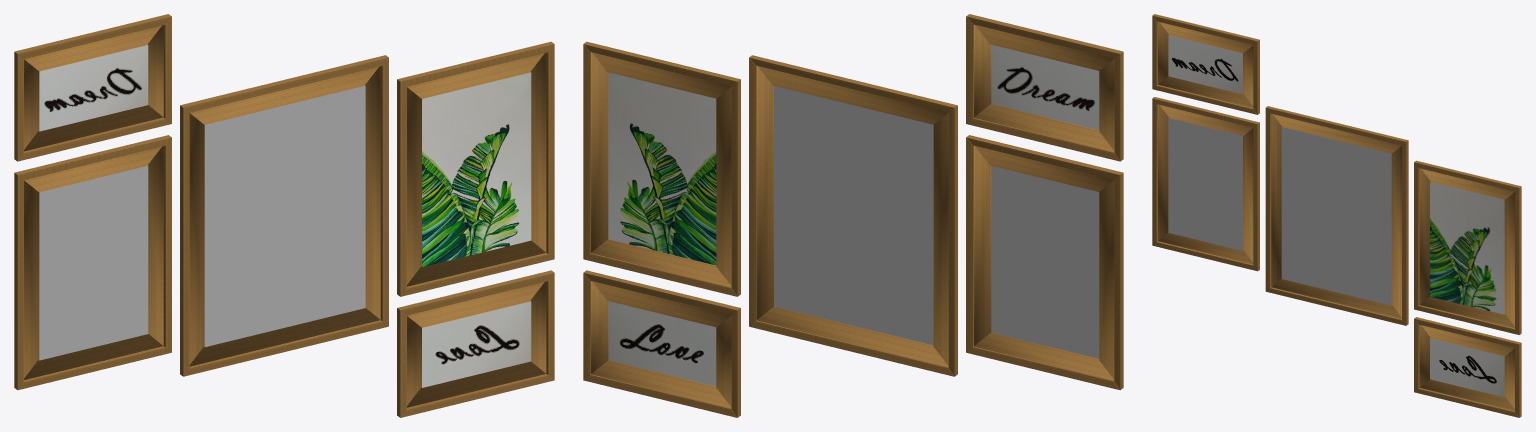
The model's file is frame2.fbx.
The picture shows the model from 3 angles, left to right: view 1: azimuth 30°, elevation 25°; view 2: azimuth 150°, elevation 25°; view 3: azimuth 330°, elevation 25°; orthographic projection. The views are drawn at different scales.
Parts seen in each view (by area): view 1: Arah_Leaf_Frame_, Object003, Object004, Object002, Object007, Object006, Object001, Object005; view 2: Arah_Leaf_Frame_, Object003, Object004, Object002, Object007, Object006, Object005, Object001; view 3: Arah_Leaf_Frame_, Object003, Object004, Object002, Object007, Object006, Object001, Object005.
Part boxes in pixels (x1,y1,x2,y2): Arah_Leaf_Frame_: [14, 55, 554, 417]; Object003: [204, 85, 365, 346]; Object004: [422, 72, 531, 267]; Object002: [39, 166, 148, 360]; Object007: [397, 41, 554, 296]; Object006: [14, 14, 171, 161]; Object001: [39, 45, 148, 131]; Object005: [422, 301, 531, 387]; Arah_Leaf_Frame_: [583, 55, 1123, 417]; Object003: [774, 86, 933, 345]; Object004: [608, 72, 716, 265]; Object002: [991, 166, 1099, 358]; Object007: [583, 41, 740, 296]; Object006: [966, 14, 1123, 161]; Object005: [608, 301, 716, 386]; Object001: [991, 44, 1099, 129]; Arah_Leaf_Frame_: [1152, 40, 1521, 417]; Object003: [1281, 127, 1391, 305]; Object004: [1430, 181, 1504, 314]; Object002: [1168, 118, 1242, 250]; Object007: [1414, 160, 1521, 334]; Object006: [1152, 14, 1259, 114]; Object001: [1168, 35, 1242, 94]; Object005: [1430, 338, 1504, 397].
Size of the model in its own units: 83.56 by 68 by 0.9136.
